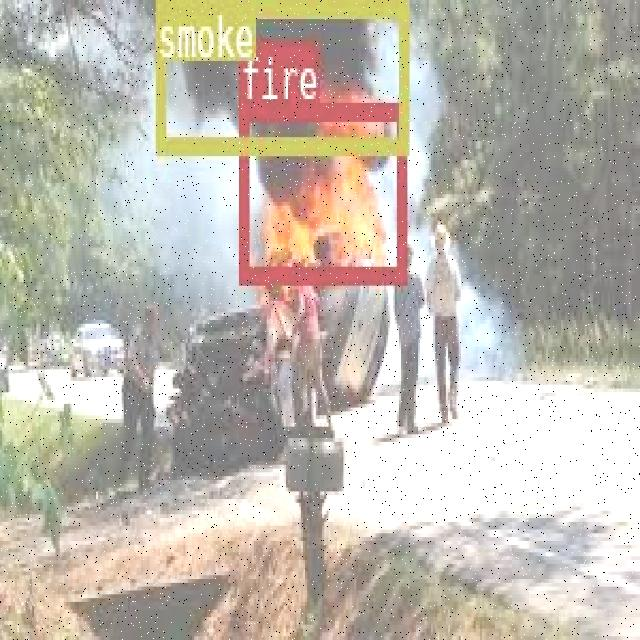fire: (238, 100, 404, 281)
smoke: (154, 0, 408, 149)
